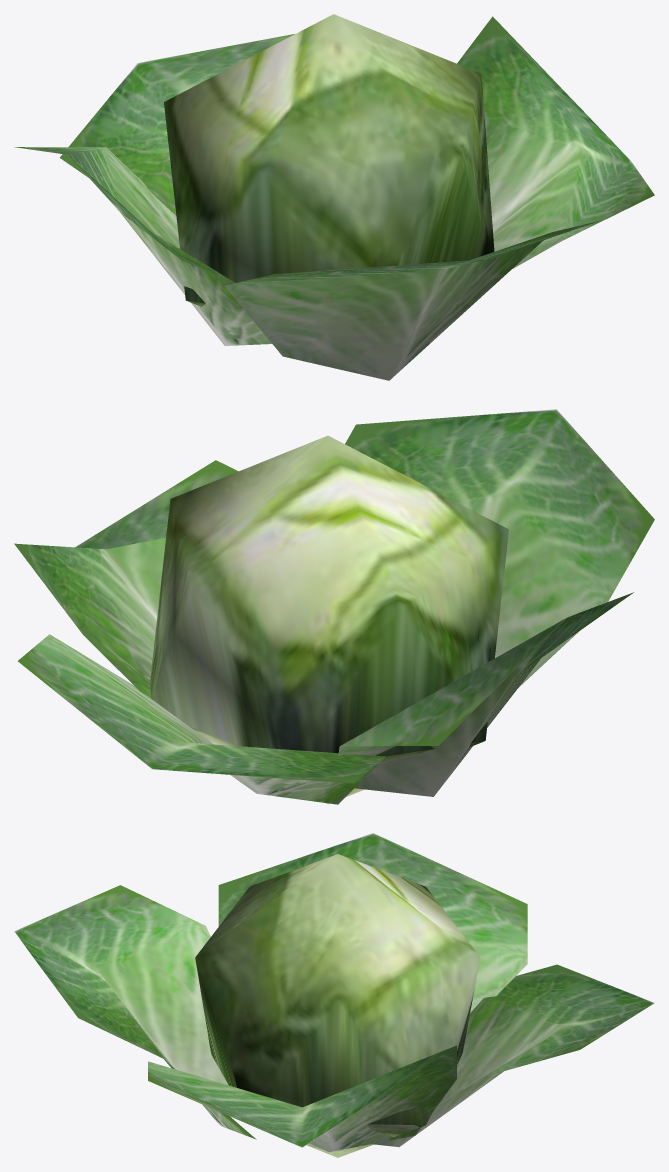
Rendered from FastCabbage.FBX.
3 views of the same model, one above another, from view 1: azimuth 30°, elevation 25°; view 2: azimuth 150°, elevation 25°; view 3: azimuth 270°, elevation 25° (orthographic). The views are drawn at different scales.
Visible parts, largest first — view 1: Fast Cabbage; view 2: Fast Cabbage; view 3: Fast Cabbage.
Part boxes in pixels (box(x1,y1,x2,y2)): Fast Cabbage: box(14, 14, 654, 380); Fast Cabbage: box(14, 409, 654, 804); Fast Cabbage: box(14, 833, 654, 1157).
Bounding box in the file's own units: 57.87 × 36.65 × 70.03.
